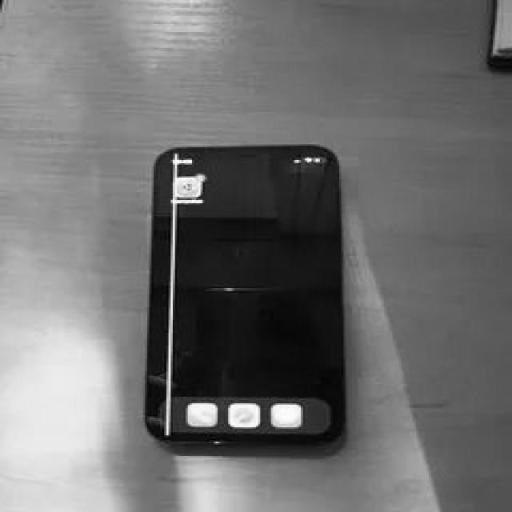phone: (151, 141, 348, 438)
